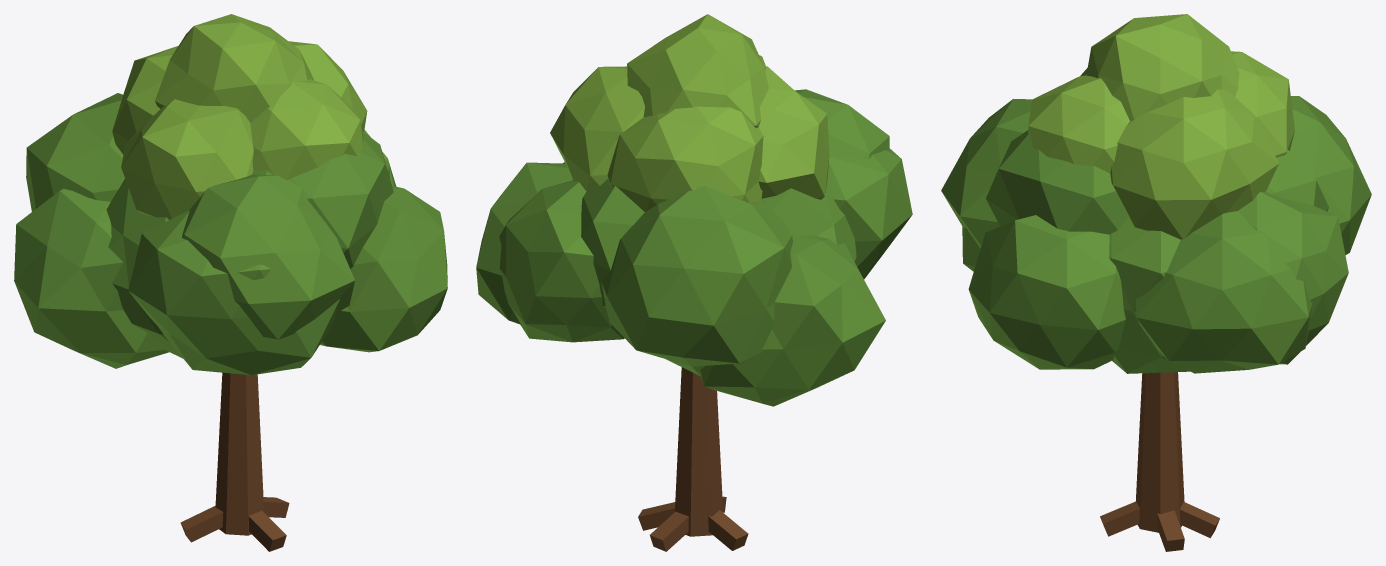
File: Tree_Broadleaf_Green.fbx
The picture shows the model from 3 angles, left to right: view 1: azimuth 30°, elevation 25°; view 2: azimuth 150°, elevation 25°; view 3: azimuth 270°, elevation 25°; orthographic projection.
Visible parts, largest first — view 1: Tree_Broadleaf_Green; view 2: Tree_Broadleaf_Green; view 3: Tree_Broadleaf_Green.
Part boxes in pixels (box(x1,y1,x2,y2)): Tree_Broadleaf_Green: box(14, 14, 447, 551); Tree_Broadleaf_Green: box(476, 14, 912, 551); Tree_Broadleaf_Green: box(941, 14, 1371, 551).
Bounding box in the file's own units: 5.05 × 6.66 × 5.15.
